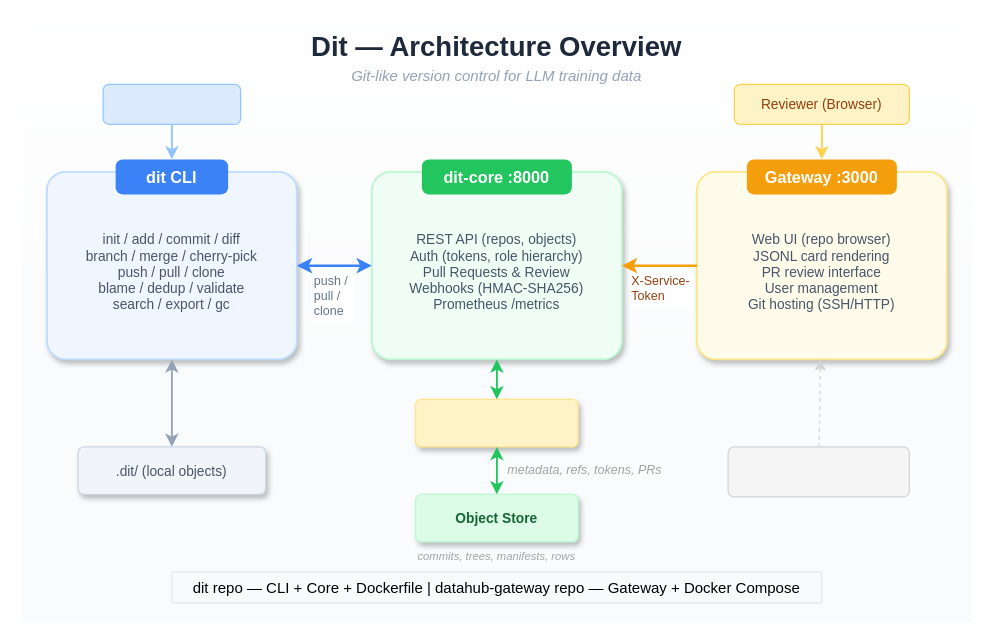
Some shapes in this 993 by 643 pixel diagram are drawn without their labels. Each missing label, with the centre of its shape:
Caddy (optional TLS): the point at 818,471
Data Engineer: the point at 171,103
PostgreSQL: the point at 497,424
